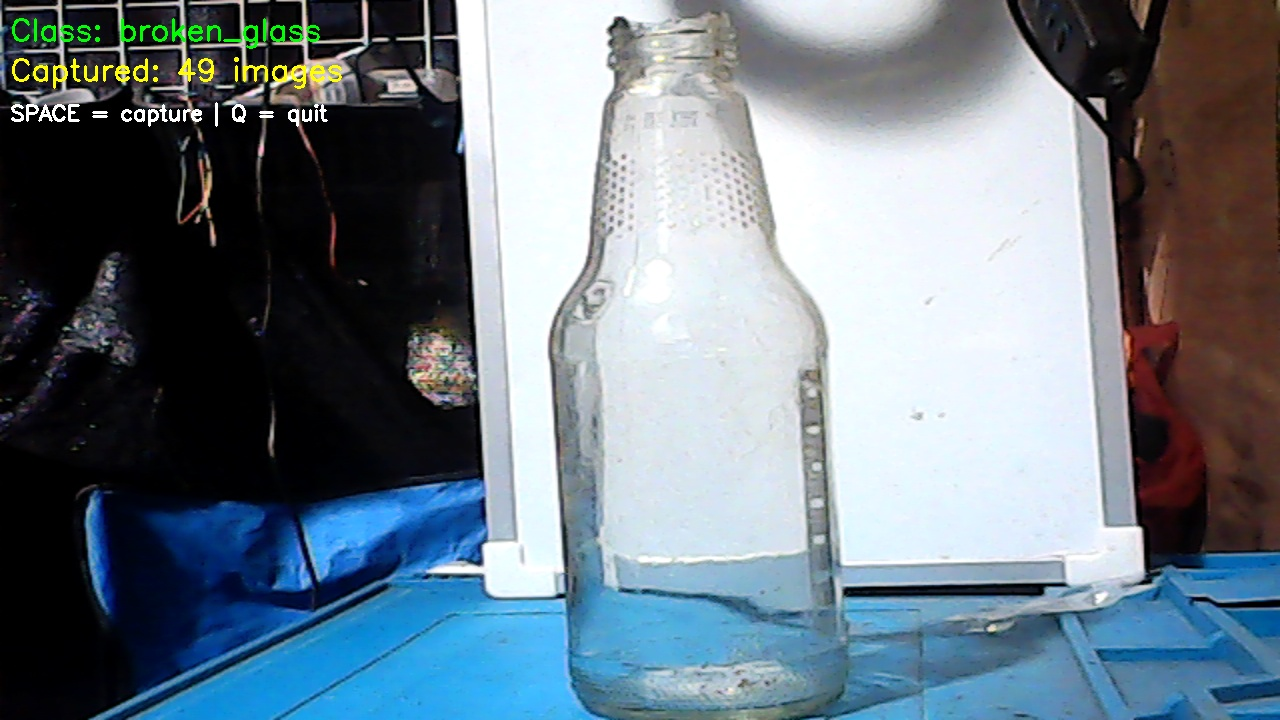broken_glass: (540, 10, 847, 717)
